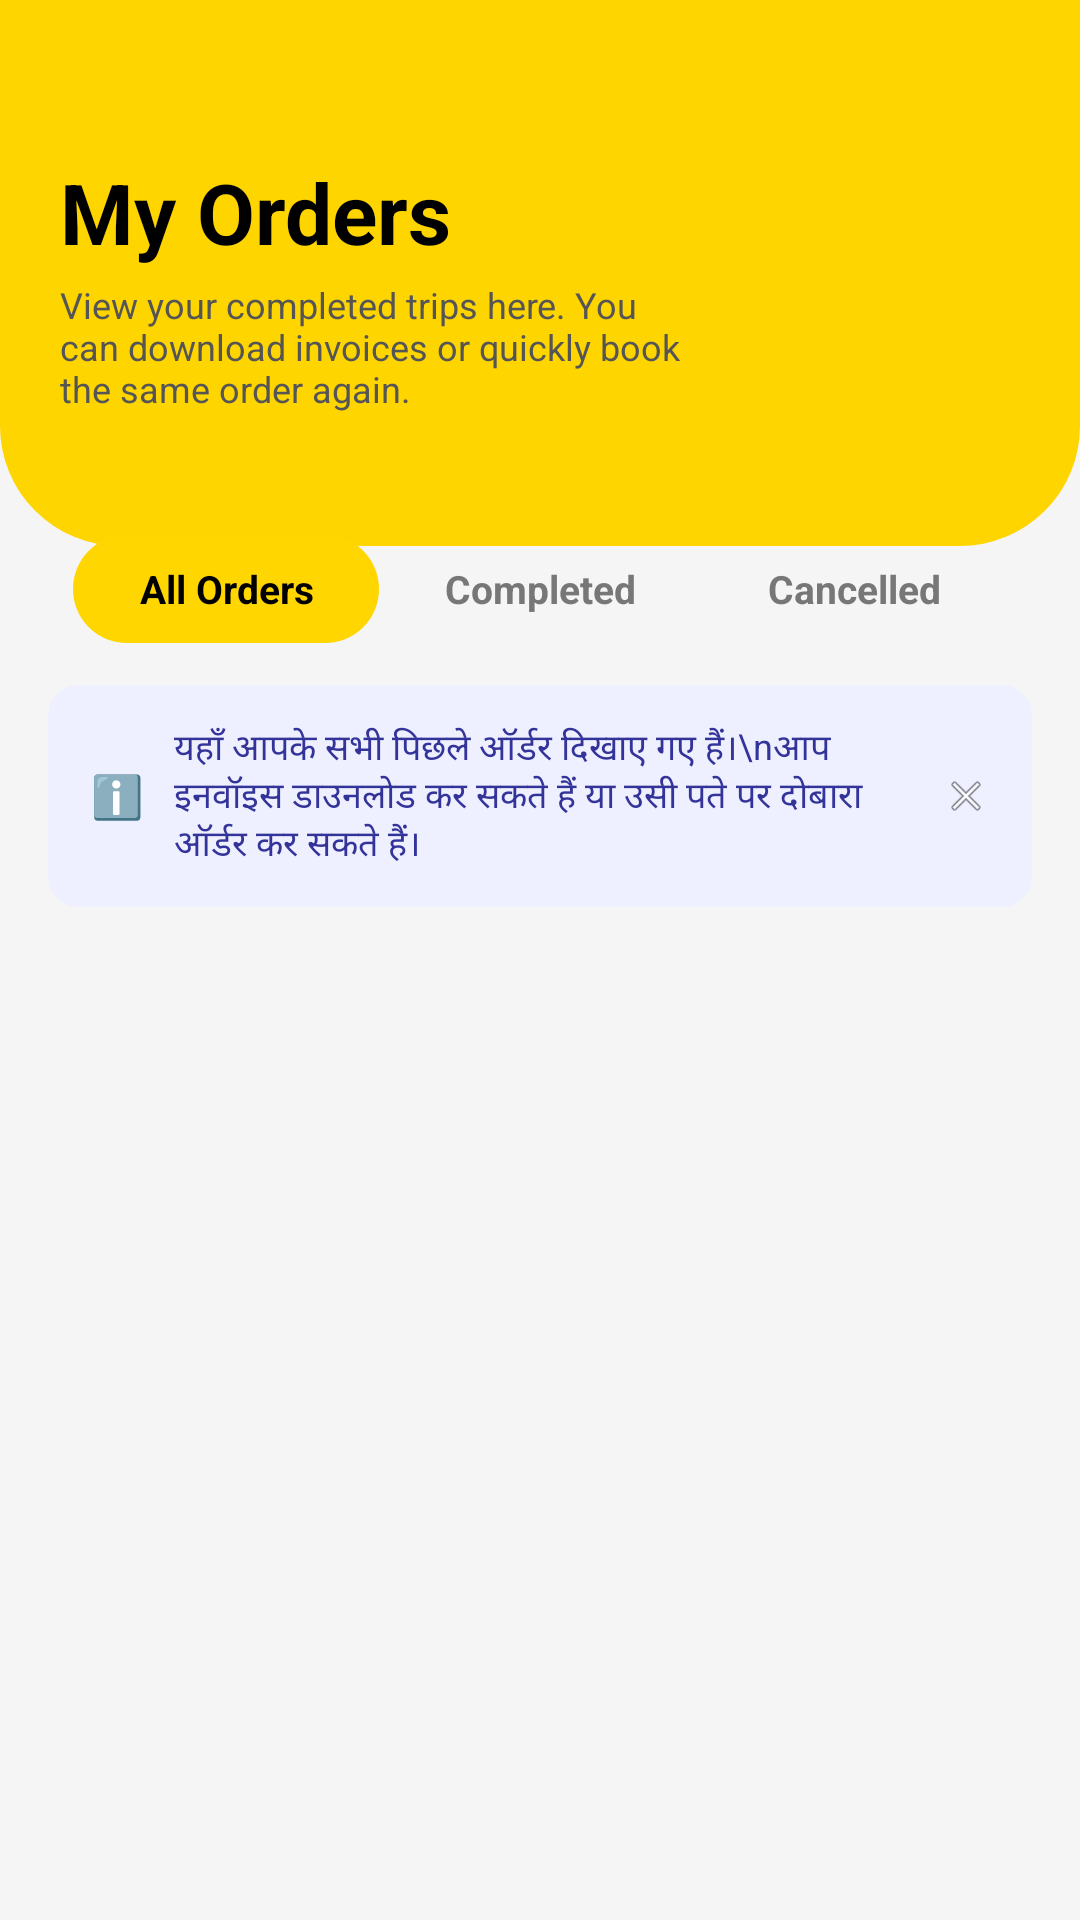

Screen size 1080w x 1920h. Icon name, then its box in pixels as (x1, y1, x2, y2):
close clear cancel: (951, 781, 981, 811)
